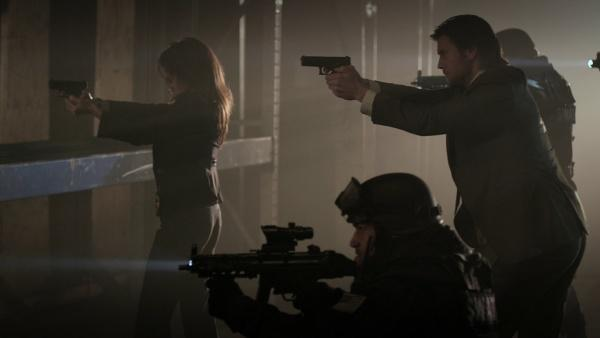Gun: (178, 224, 357, 287), (300, 54, 351, 79), (47, 78, 90, 100)
